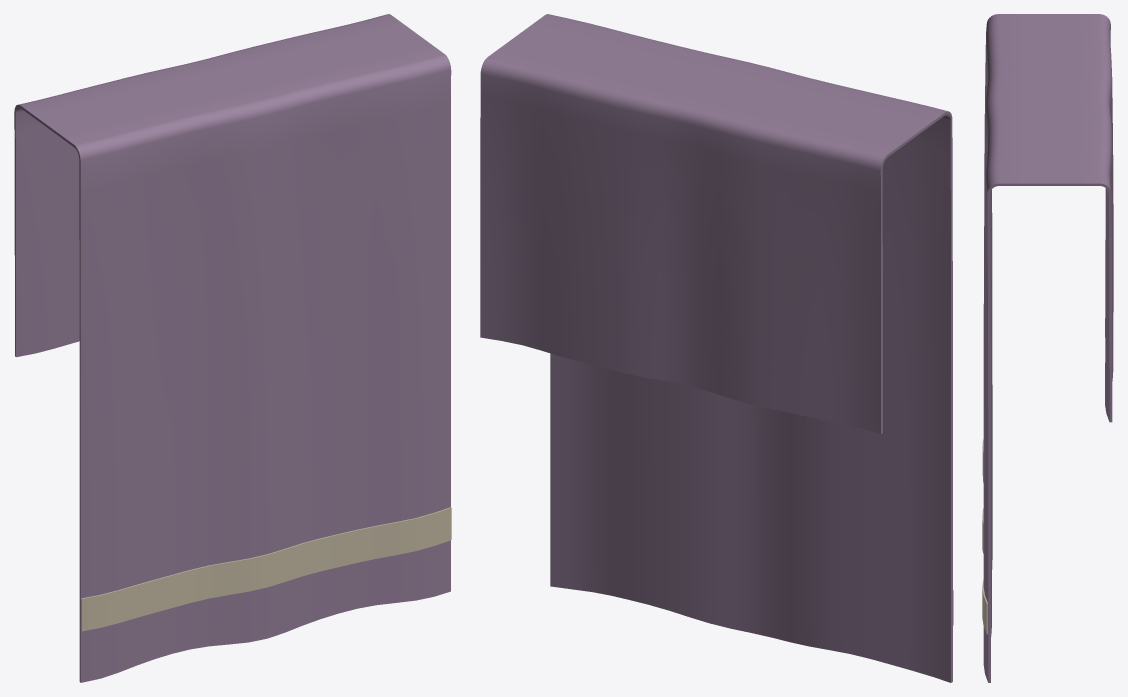
Rendered from towel-draped-mint-f814df9bee68.glb.
The picture shows the model from 3 angles, left to right: view 1: azimuth 30°, elevation 25°; view 2: azimuth 150°, elevation 25°; view 3: azimuth 270°, elevation 25°; orthographic projection. The views are drawn at different scales.
Visible parts, largest first — view 1: cloth-lilac, cloth-cream; view 2: cloth-lilac; view 3: cloth-lilac, cloth-cream.
Part boxes in pixels (left/top/right/bottom): cloth-lilac: left=14, top=14, right=451, bottom=682; cloth-cream: left=81, top=507, right=451, bottom=631; cloth-lilac: left=480, top=14, right=952, bottom=682; cloth-lilac: left=983, top=14, right=1113, bottom=682; cloth-cream: left=982, top=439, right=987, bottom=634.
Size of the model in its own units: 0.36 by 0.494 by 0.118.
